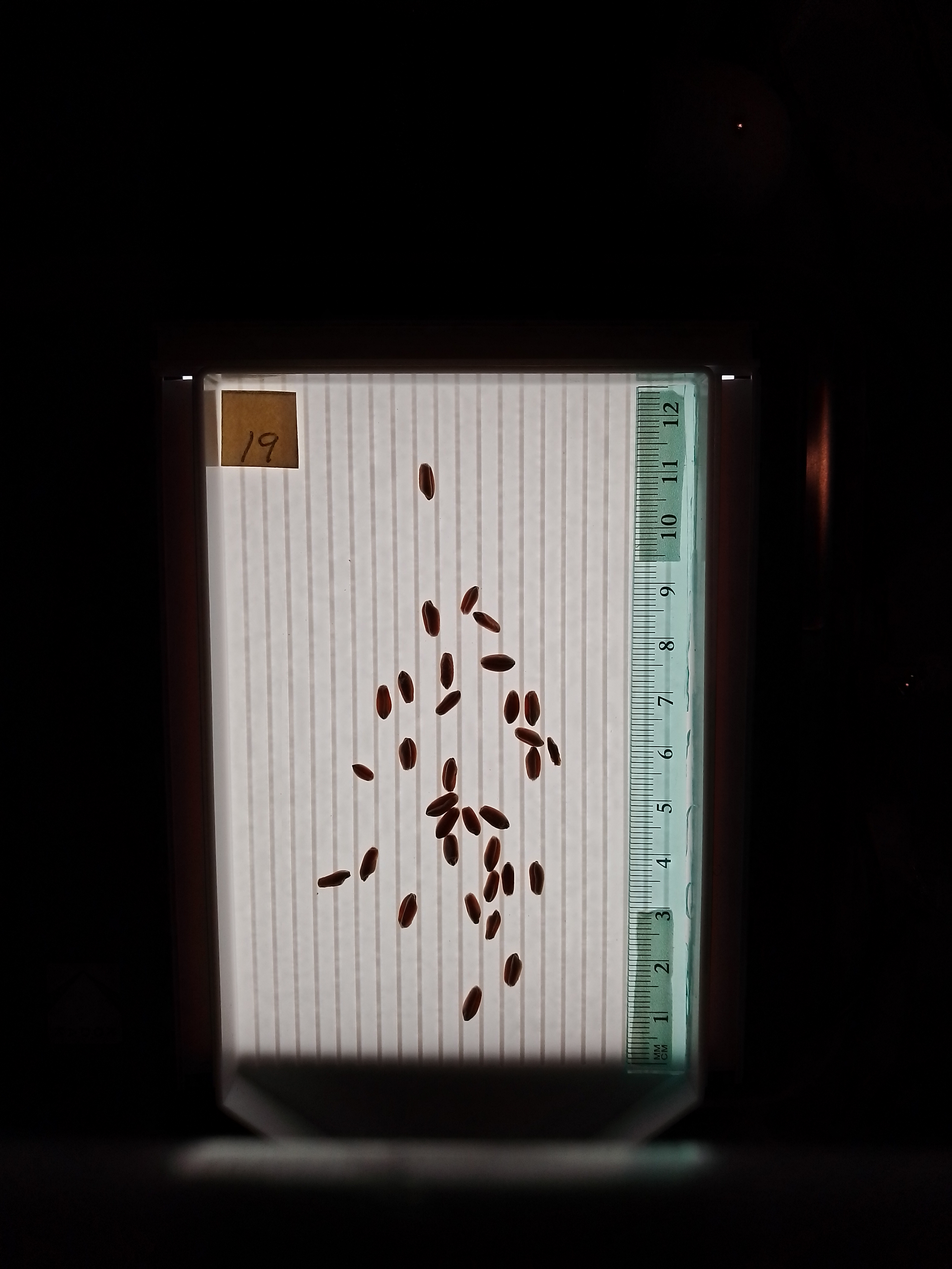seed mask: (462, 987, 482, 1021), (480, 806, 508, 830), (436, 809, 459, 838), (426, 794, 456, 816), (398, 894, 417, 928), (422, 601, 440, 635), (418, 464, 435, 499), (504, 954, 522, 987), (481, 654, 513, 672), (399, 738, 417, 770), (360, 848, 378, 880), (515, 728, 543, 748), (474, 612, 500, 633), (442, 758, 458, 792), (462, 807, 481, 835), (436, 692, 460, 714), (524, 692, 540, 725), (484, 838, 500, 871), (376, 686, 392, 718), (461, 586, 479, 614), (398, 672, 414, 703), (504, 692, 520, 723), (444, 835, 459, 866), (529, 863, 544, 894), (485, 912, 501, 940), (526, 751, 541, 780), (465, 894, 480, 923), (484, 872, 499, 901), (440, 655, 453, 687), (353, 763, 374, 782), (503, 864, 514, 895)
